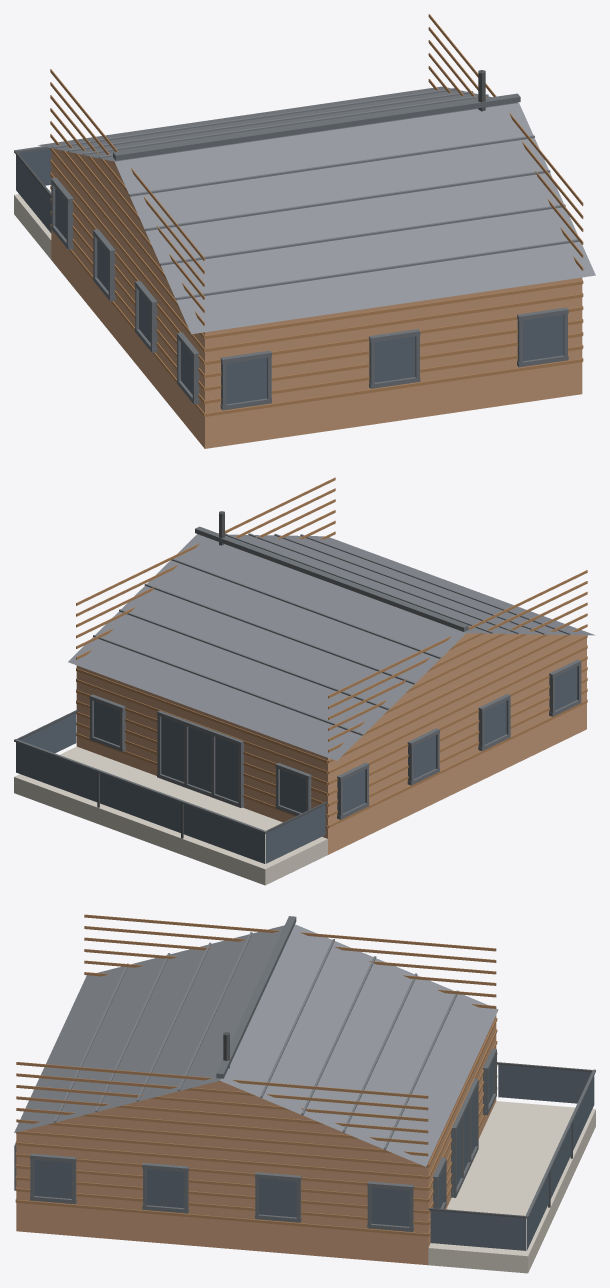
The picture shows the model from 3 angles, top to bottom: view 1: azimuth 30°, elevation 25°; view 2: azimuth 150°, elevation 25°; view 3: azimuth 270°, elevation 25°; orthographic projection. The views are drawn at different scales.
Parts seen in each view (by area): view 1: slate_lt, timber_stain, timber_stain_dk, slate_dk, slate, window_glass_016, window_glass_017, window_glass_015, window_glass_005, deck_grey, window_glass_003; view 2: slate_lt, timber_stain, timber_stain_dk, slate_dk, deck_grey, slate, window_glass_003, window_glass_001, window_glass_002, window_glass_005, window_glass_008, window_glass_006 (+9 smaller); view 3: slate_lt, timber_stain, timber_stain_dk, deck_grey, slate_dk, slate, window_glass_004, window_glass_005, window_glass_019, window_glass_021, window_glass_018, window_glass_020 (+4 smaller).
Part boxes in pixels (x1=…): slate_lt: x1=38, y1=86, x2=595, y2=334; timber_stain: x1=51, y1=149, x2=582, y2=448; timber_stain_dk: x1=50, y1=14, x2=583, y2=416; slate_dk: x1=14, y1=93, x2=568, y2=410; slate: x1=52, y1=88, x2=579, y2=300; window_glass_016: x1=374, y1=336, x2=415, y2=382; window_glass_017: x1=523, y1=315, x2=563, y2=361; window_glass_015: x1=226, y1=358, x2=266, y2=404; window_glass_005: x1=16, y1=155, x2=51, y2=232; deck_grey: x1=14, y1=189, x2=51, y2=259; window_glass_003: x1=19, y1=148, x2=51, y2=185; slate_lt: x1=68, y1=534, x2=594, y2=760; timber_stain: x1=76, y1=633, x2=586, y2=854; timber_stain_dk: x1=76, y1=477, x2=587, y2=828; slate_dk: x1=14, y1=526, x2=581, y2=833; deck_grey: x1=14, y1=746, x2=327, y2=885; slate: x1=93, y1=533, x2=570, y2=735; window_glass_003: x1=183, y1=804, x2=264, y2=863; window_glass_001: x1=16, y1=742, x2=97, y2=802; window_glass_002: x1=100, y1=773, x2=180, y2=832; window_glass_005: x1=265, y1=804, x2=325, y2=863; window_glass_008: x1=215, y1=737, x2=238, y2=801; window_glass_006: x1=161, y1=717, x2=184, y2=781; slate_lt: x1=14, y1=924, x2=498, y2=1166; timber_stain: x1=16, y1=1015, x2=496, y2=1265; timber_stain_dk: x1=15, y1=914, x2=497, y2=1236; deck_grey: x1=428, y1=1101, x2=595, y2=1273; slate_dk: x1=14, y1=916, x2=595, y2=1231; slate: x1=54, y1=932, x2=458, y2=1149; window_glass_004: x1=430, y1=1210, x2=526, y2=1250; window_glass_005: x1=498, y1=1064, x2=591, y2=1103; window_glass_019: x1=146, y1=1169, x2=184, y2=1208; window_glass_021: x1=371, y1=1187, x2=409, y2=1226; window_glass_018: x1=34, y1=1160, x2=71, y2=1198; window_glass_020: x1=259, y1=1178, x2=296, y2=1217.
Bounding box in the file's own units: 10.87 × 5.36 × 13.76.
